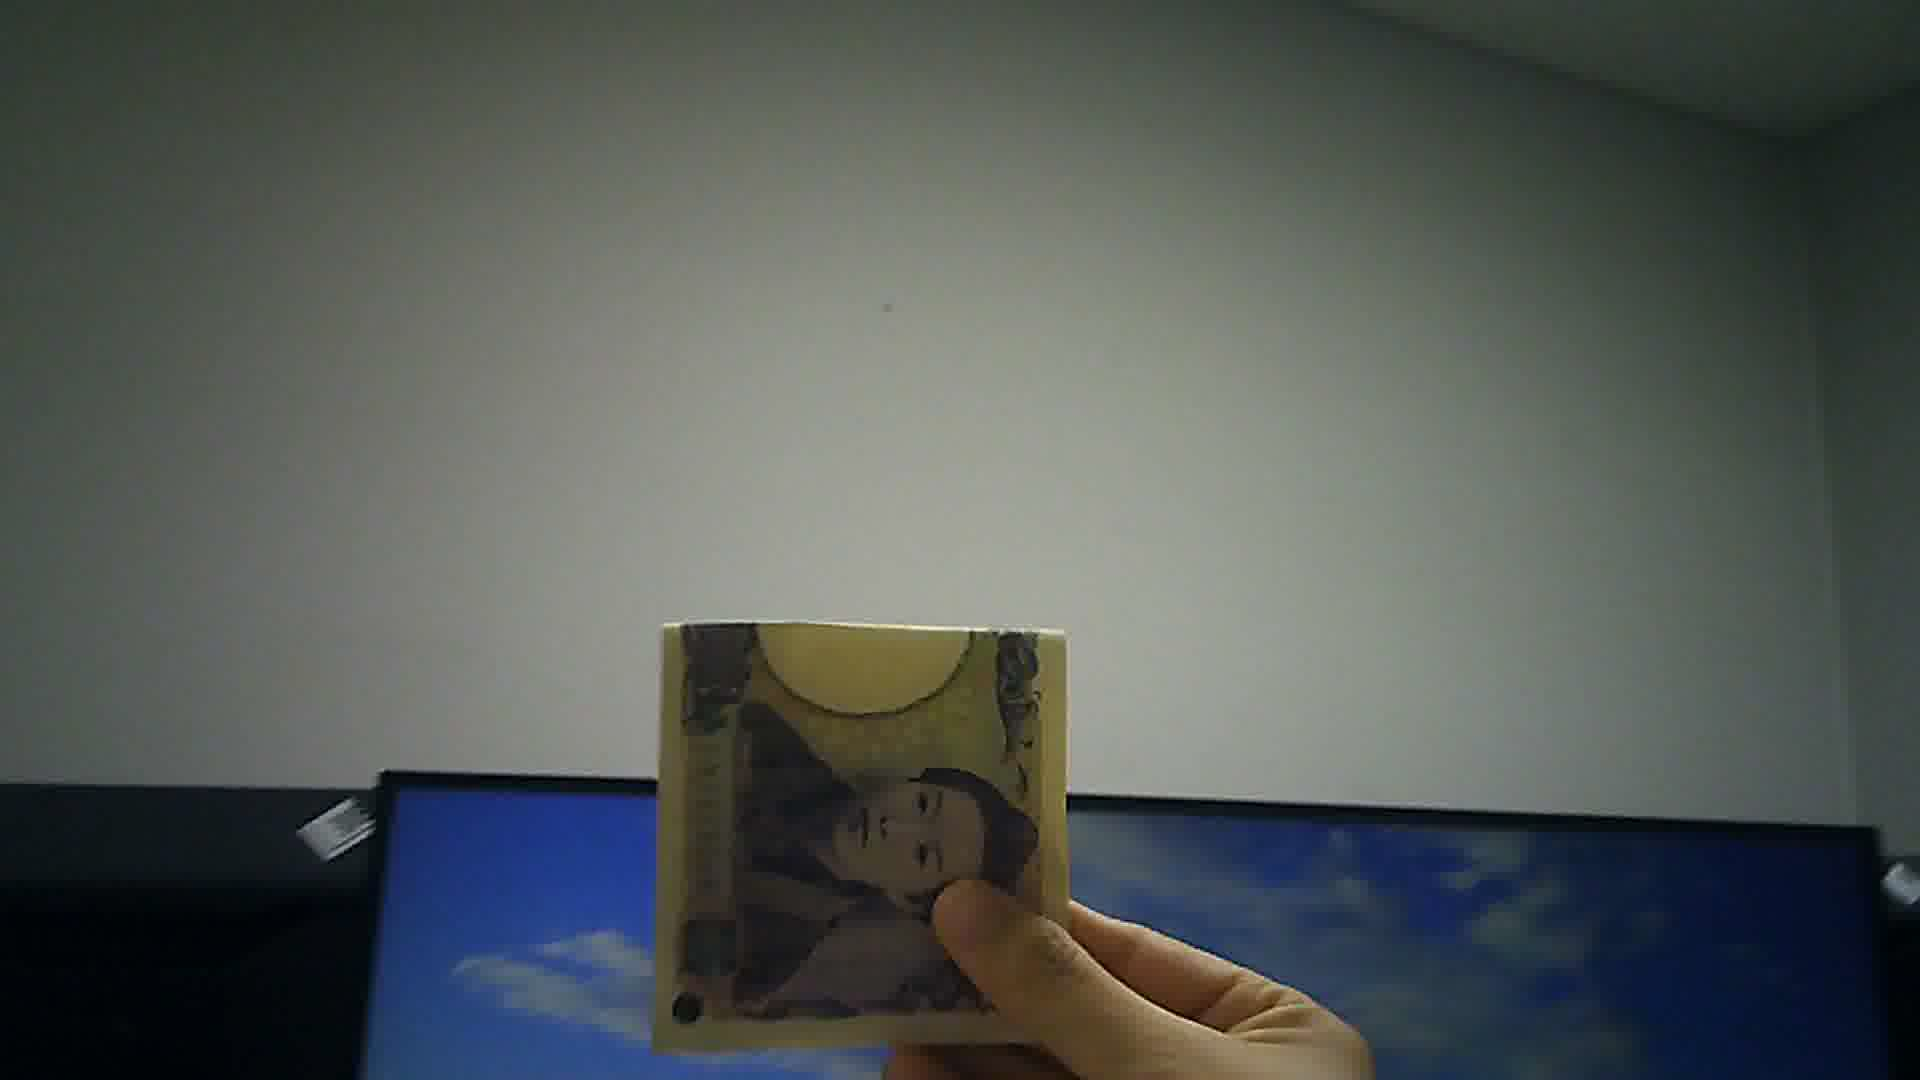5,000 Yen: (638, 605, 1080, 1038)
